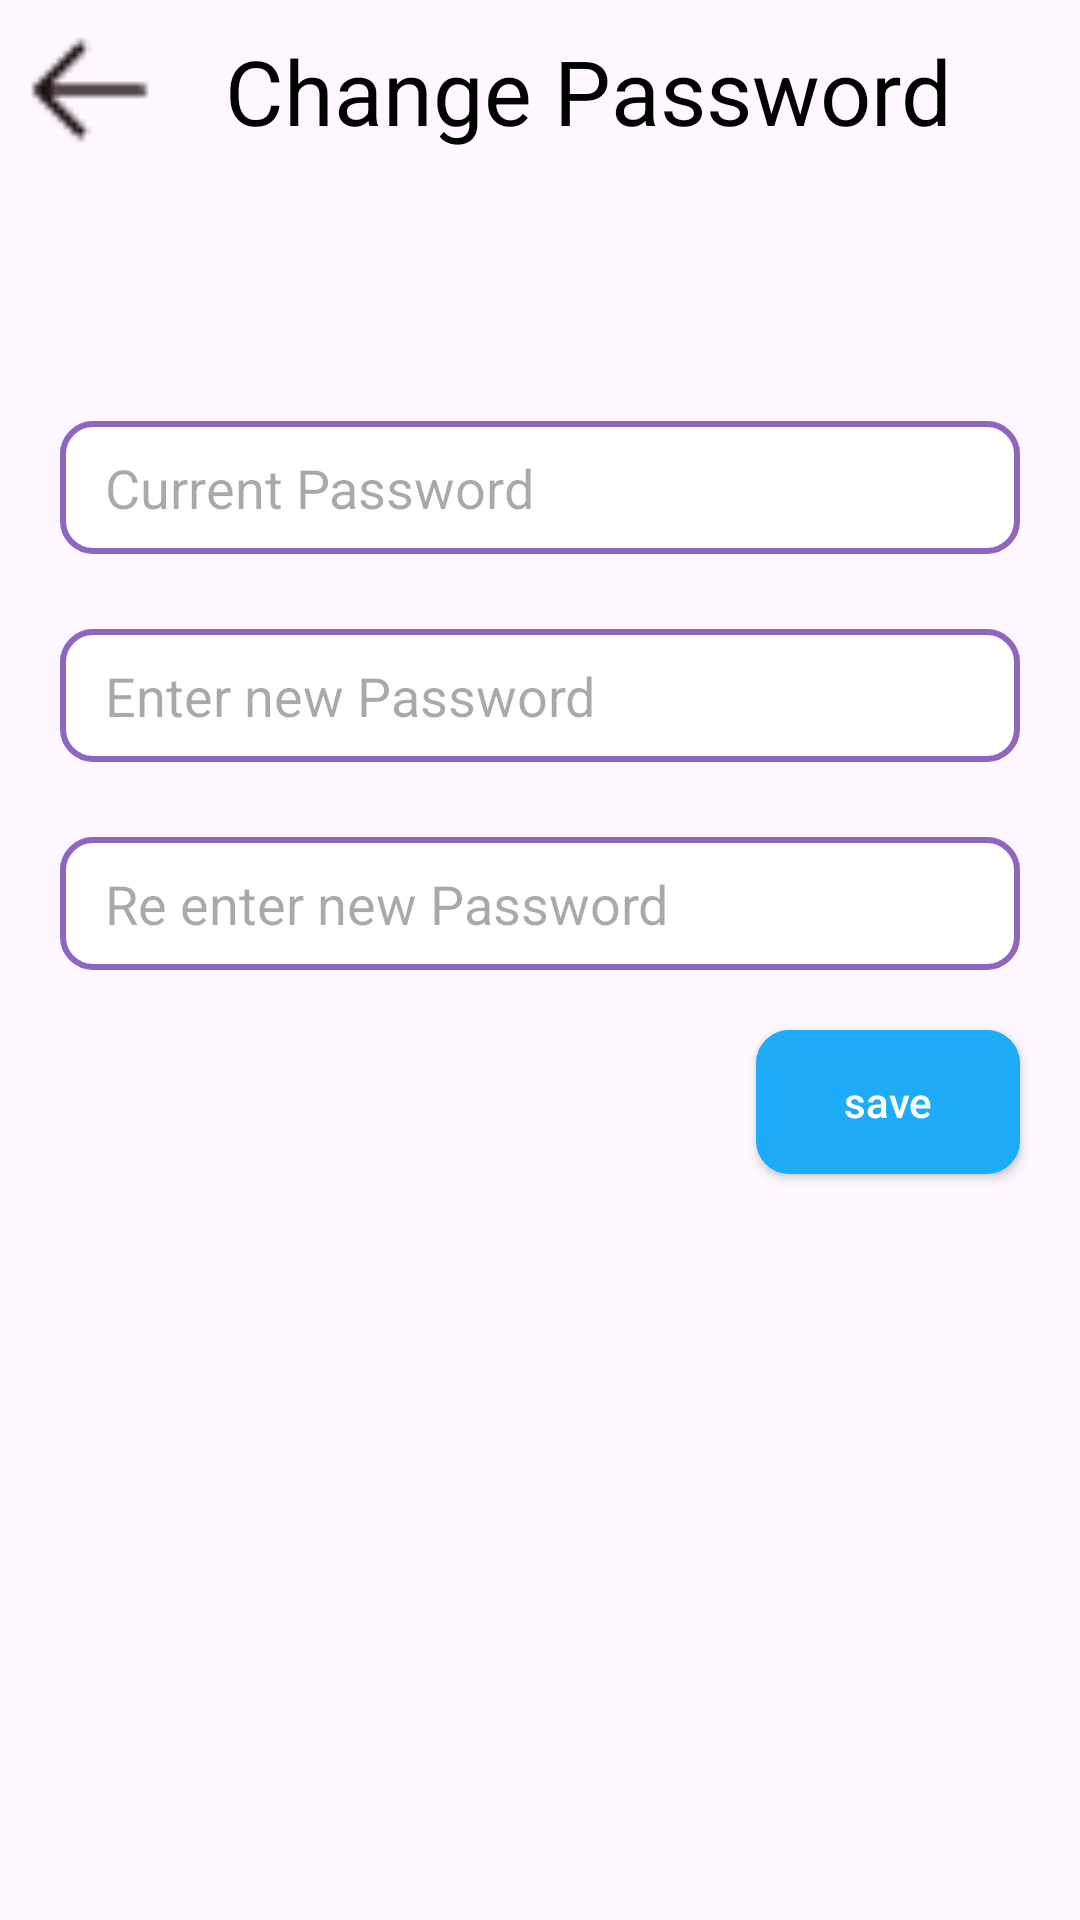

Locate icon controls on the screen. Image size 1080px x 1920px, boxes as (x1, y1, x2, y2).
back: (31, 38, 148, 142)
